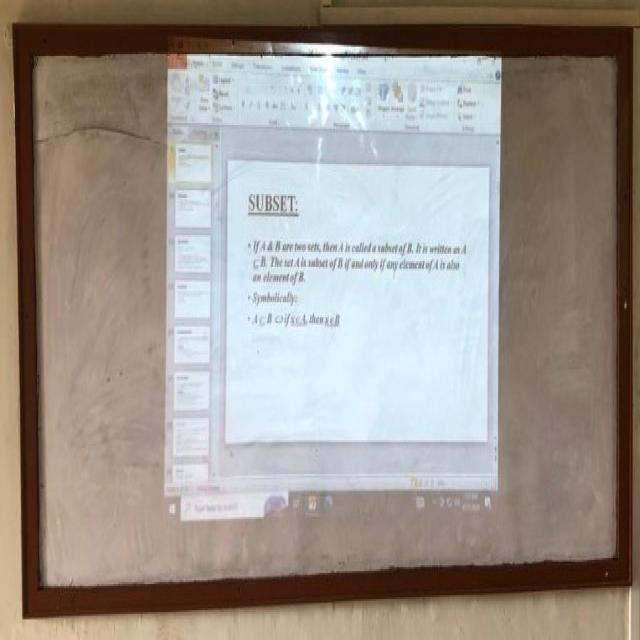Slide: (166, 45, 502, 538)
White-board: (23, 34, 631, 603)
